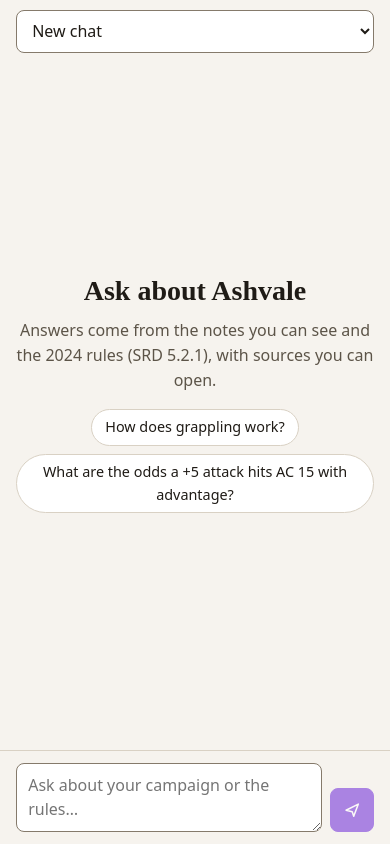
Test: ChatPage thread switching › C3: a compact chat picker works where the side list is hidden (phones)
Step 1. Select "Older chat" in the dropdown named "chat" → (195, 31), box [16, 10, 374, 53]
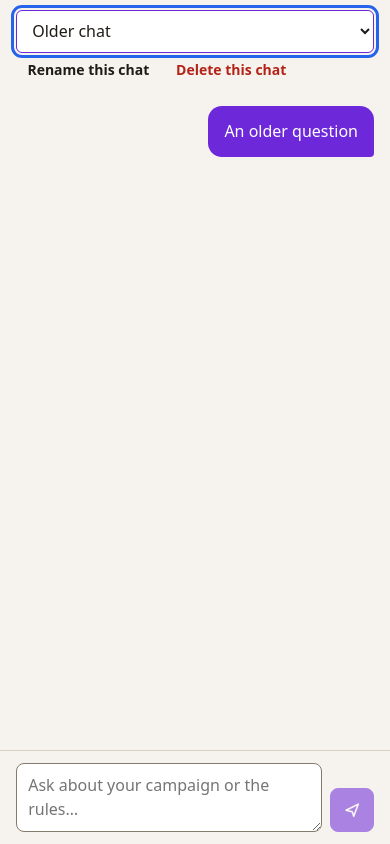
Now the text "An older question" is shown, box [224, 119, 358, 144]
